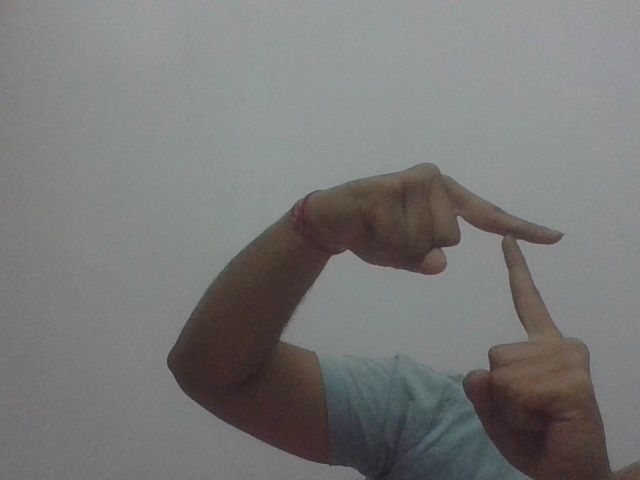T: (328, 158, 597, 456)
